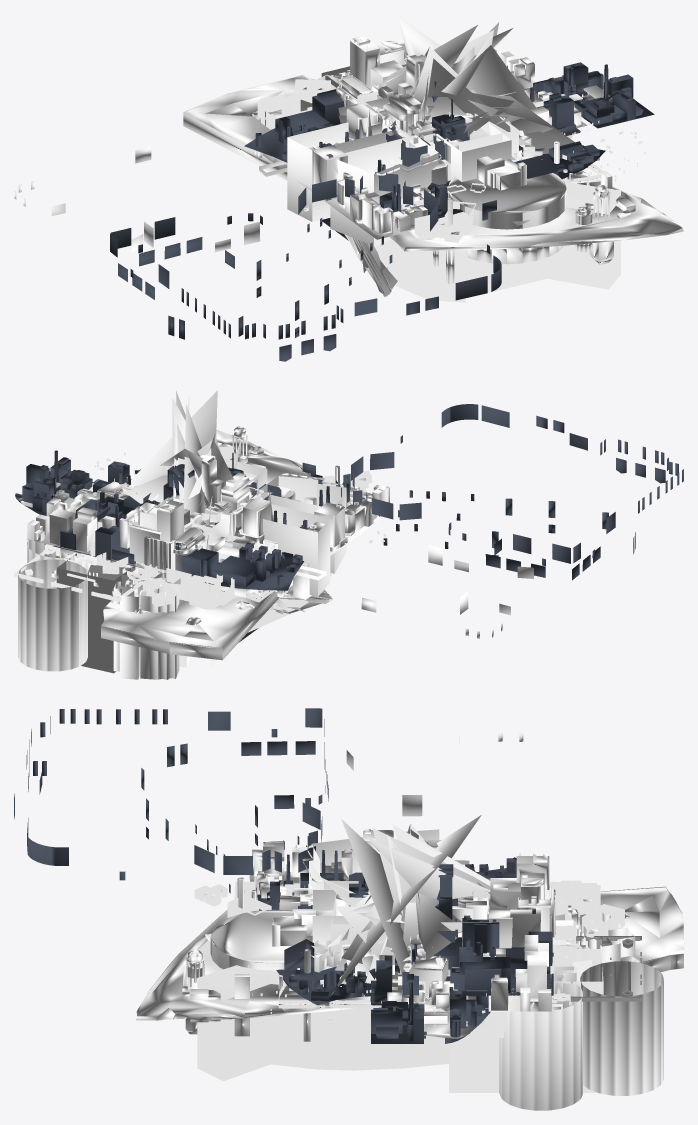
Rendered from fp_island2.glb.
3 renders of one model, top to bottom at view 1: azimuth 30°, elevation 25°; view 2: azimuth 150°, elevation 25°; view 3: azimuth 270°, elevation 25°, orthographic. The views are drawn at different scales.
Parts seen in each view (by area): view 1: GC_Footprint_VRS_LongDist, GC_Footprint_LG_Reflections, GC_Footprint_STD_Reflection, GC_Footprint_CC_LongDist, GC_Footprint_ZD_Reflection, GC_Footprint_DF_LongDist, GC_Footprint_CF_LongDist, GC_Footprint_AJ_LongDist, GC_Footprint_CG_LongDist, GC_Footprint_VRS_Reflection, GC_Footprint_ZF_reflection, GC_Footprint_ZA_Reflection (+10 smaller); view 2: GC_Footprint_VPOW_Reflection, GC_Footprint_VRS_LongDist, GC_Footprint_DF_LongDist, GC_Footprint_LG_Reflections, GC_Footprint_ZD_Reflection, GC_Footprint_CJ_LongDist, GC_Footprint_CC_LongDist, GC_Footprint_ZF_reflection, GC_Footprint_DSE_Reflection, GC_Footprint_AJ_LongDist, GC_Footprint_CF_LongDist, GC_Footprint_AH_LongDist (+15 smaller); view 3: GC_Footprint_VPOW_Reflection, GC_Footprint_VRS_LongDist, GC_Footprint_STD_Reflection, GC_Footprint_CC_LongDist, GC_Footprint_DF_LongDist, GC_Footprint_AJ_LongDist, GC_Footprint_CJ_LongDist, GC_Footprint_ZD_Reflection, GC_Footprint_ZF_reflection, GC_Footprint_CG_LongDist, GC_Footprint_DSE_Reflection, GC_Footprint_CF_LongDist (+12 smaller).
Part boxes in pixels (box(x1,y1,x2,y2)): GC_Footprint_VRS_LongDist: box(184, 75, 683, 251); GC_Footprint_LG_Reflections: box(287, 116, 511, 245); GC_Footprint_STD_Reflection: box(344, 178, 620, 302); GC_Footprint_CC_LongDist: box(338, 22, 536, 161); GC_Footprint_ZD_Reflection: box(110, 172, 501, 361); GC_Footprint_DF_LongDist: box(244, 76, 605, 225); GC_Footprint_CF_LongDist: box(296, 136, 530, 239); GC_Footprint_AJ_LongDist: box(533, 62, 654, 135); GC_Footprint_CG_LongDist: box(391, 14, 584, 160); GC_Footprint_VRS_Reflection: box(183, 75, 613, 284); GC_Footprint_ZF_reflection: box(257, 79, 645, 242); GC_Footprint_ZA_Reflection: box(118, 200, 496, 339); GC_Footprint_VPOW_Reflection: box(18, 539, 190, 679); GC_Footprint_VRS_LongDist: box(101, 426, 341, 648); GC_Footprint_DF_LongDist: box(53, 469, 350, 590); GC_Footprint_LG_Reflections: box(223, 458, 346, 596); GC_Footprint_ZD_Reflection: box(336, 404, 683, 566); GC_Footprint_CJ_LongDist: box(26, 479, 206, 572); GC_Footprint_CC_LongDist: box(131, 390, 241, 583); GC_Footprint_ZF_reflection: box(63, 452, 385, 609); GC_Footprint_DSE_Reflection: box(14, 551, 145, 673); GC_Footprint_AJ_LongDist: box(15, 450, 157, 527); GC_Footprint_CF_LongDist: box(239, 455, 394, 560); GC_Footprint_AH_LongDist: box(129, 500, 192, 573); GC_Footprint_VPOW_Reflection: box(499, 913, 663, 1110); GC_Footprint_VRS_LongDist: box(136, 877, 683, 1020); GC_Footprint_STD_Reflection: box(197, 908, 448, 1081); GC_Footprint_CC_LongDist: box(320, 819, 555, 974); GC_Footprint_DF_LongDist: box(256, 850, 553, 1005); GC_Footprint_AJ_LongDist: box(371, 915, 499, 1043); GC_Footprint_CJ_LongDist: box(387, 909, 551, 1011); GC_Footprint_ZD_Reflection: box(14, 708, 325, 880); GC_Footprint_ZF_reflection: box(194, 880, 624, 1028); GC_Footprint_CG_LongDist: box(325, 815, 490, 996); GC_Footprint_DSE_Reflection: box(449, 936, 641, 1092); GC_Footprint_CF_LongDist: box(205, 829, 393, 946).
Size of what is drawn, in the model's own units: 671 by 276 by 634.
